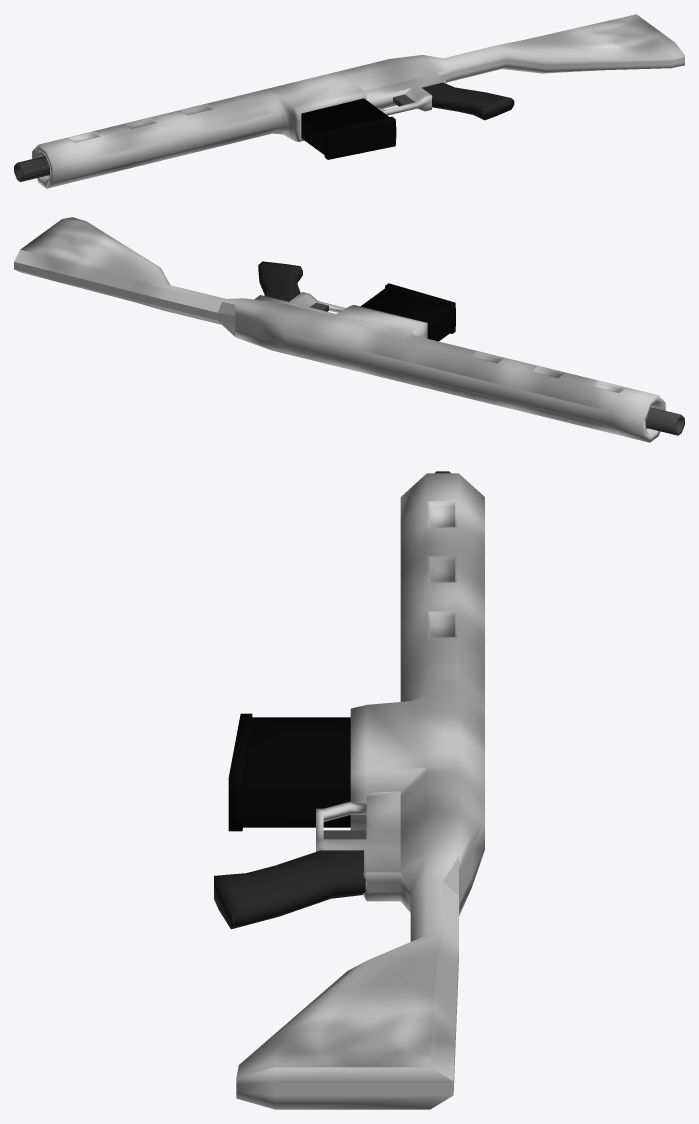
Rendered from Rifle.fbx.
The picture shows the model from 3 angles, top to bottom: view 1: azimuth 30°, elevation 25°; view 2: azimuth 150°, elevation 25°; view 3: azimuth 270°, elevation 25°; orthographic projection. The views are drawn at different scales.
Visible parts, largest first — view 1: Francotirador; view 2: Francotirador; view 3: Francotirador.
Boxes of the visible parts, x1,y1,x2,y2 form: Francotirador: (14, 14, 684, 188); Francotirador: (14, 217, 684, 442); Francotirador: (214, 471, 484, 1109).
Size of the model in its own units: 3362 by 200 by 642.
